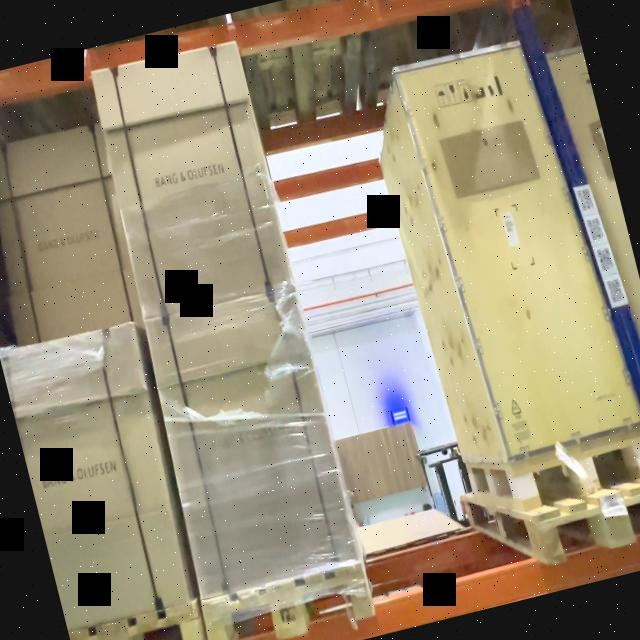box: (394, 40, 640, 460), (143, 281, 355, 598), (91, 40, 293, 318), (0, 123, 141, 346)
